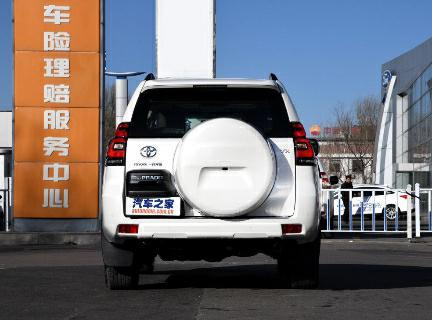丰田-普拉多: (95, 71, 330, 282)
